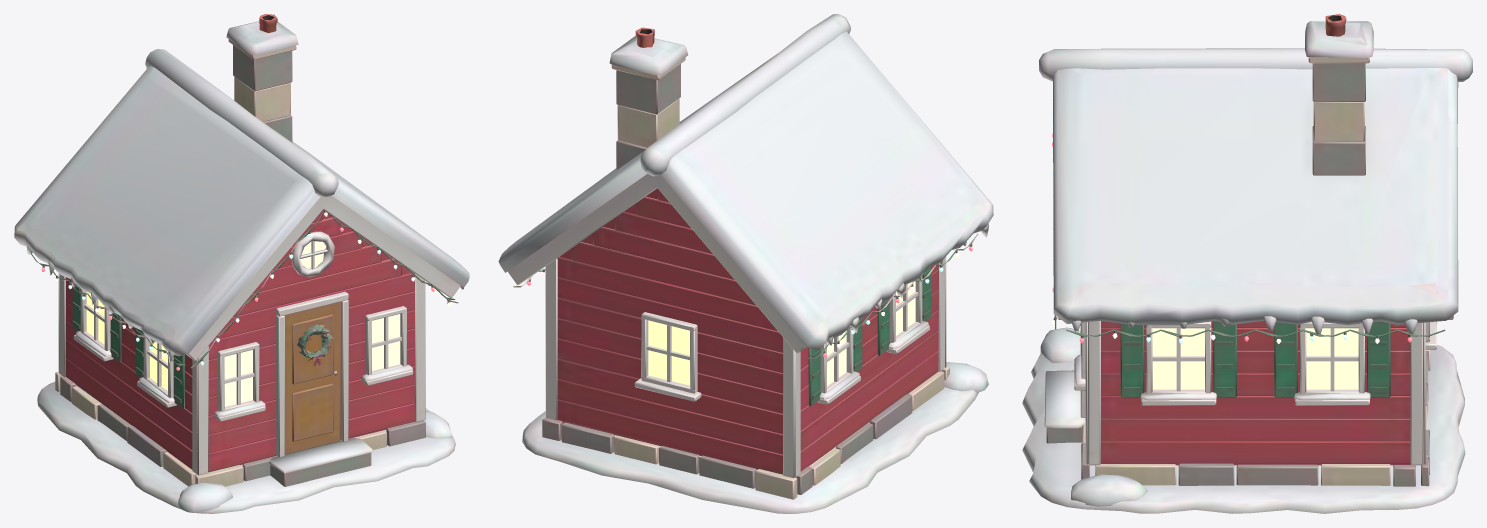
The model's file is snowy-cabin.glb.
The picture shows the model from 3 angles, left to right: view 1: azimuth 30°, elevation 25°; view 2: azimuth 150°, elevation 25°; view 3: azimuth 270°, elevation 25°; orthographic projection. The views are drawn at different scales.
Parts seen in each view (by area): view 1: snowy-cabin_body, snowy-cabin_window_glow; view 2: snowy-cabin_body, snowy-cabin_window_glow; view 3: snowy-cabin_body, snowy-cabin_window_glow.
Part boxes in pixels (x1,y1,x2,y2): snowy-cabin_body: (14, 14, 469, 513); snowy-cabin_window_glow: (86, 241, 400, 406); snowy-cabin_body: (498, 14, 993, 513); snowy-cabin_window_glow: (648, 281, 915, 386); snowy-cabin_body: (1022, 14, 1472, 513); snowy-cabin_window_glow: (1152, 328, 1358, 389).
Size of the model in its own units: 4.3 by 4.96 by 4.58.
Materials: 7 (1 with a texture image).
